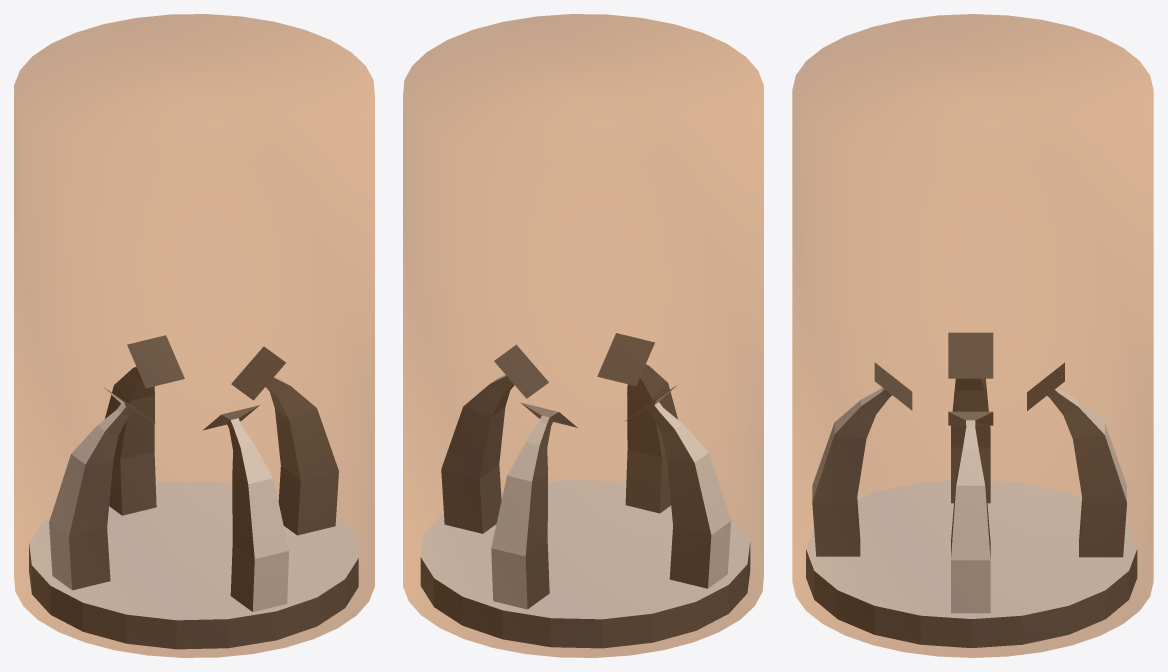
The model's file is trap.glb.
3 views of the same model, side by side, from view 1: azimuth 30°, elevation 25°; view 2: azimuth 150°, elevation 25°; view 3: azimuth 270°, elevation 25° (orthographic).
Visible parts, largest first — view 1: Cylinder.001, Cylinder, Cube.002, Cube.004, Cube.001, Cube.003; view 2: Cylinder.001, Cylinder, Cube.002, Cube.004, Cube.003, Cube.001; view 3: Cylinder.001, Cylinder, Cube.001, Cube.003, Cube.002, Cube.004.
Part boxes in pixels (bbox=[...]): Cylinder.001: bbox=[14, 14, 374, 657]; Cylinder: bbox=[29, 481, 358, 649]; Cube.002: bbox=[231, 346, 338, 535]; Cube.004: bbox=[49, 386, 155, 590]; Cube.001: bbox=[202, 405, 288, 611]; Cube.003: bbox=[105, 335, 184, 515]; Cylinder.001: bbox=[403, 14, 763, 657]; Cylinder: bbox=[420, 480, 750, 648]; Cube.002: bbox=[441, 344, 548, 533]; Cube.004: bbox=[624, 385, 730, 588]; Cube.003: bbox=[491, 402, 577, 609]; Cube.001: bbox=[597, 333, 677, 513]; Cylinder.001: bbox=[792, 14, 1153, 657]; Cylinder: bbox=[806, 480, 1137, 648]; Cube.001: bbox=[812, 362, 912, 556]; Cube.003: bbox=[1027, 362, 1126, 557]; Cube.002: bbox=[948, 411, 993, 613]; Cube.004: bbox=[948, 332, 993, 503].
Bounding box in the file's own units: 1 × 1.5 × 1.
Materials: 3 (1 with a texture image).
